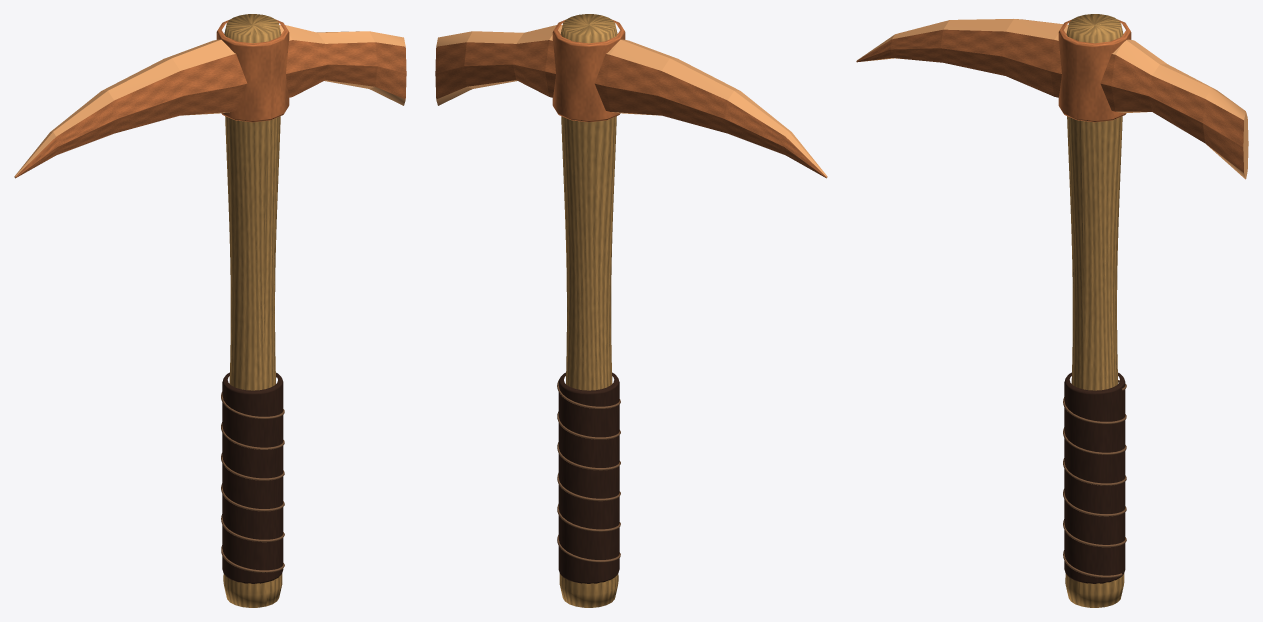
The model's file is grithe_pickaxe.glb.
The picture shows the model from 3 angles, left to right: view 1: azimuth 30°, elevation 25°; view 2: azimuth 150°, elevation 25°; view 3: azimuth 330°, elevation 25°; orthographic projection.
Parts seen in each view (by area): view 1: longitudinal-haft-grain, grithe_pickaxe-head-material, creased-leather-wrap, honed-head-bevels, socket-and-ferrule-metal, leather-overlap-edges; view 2: longitudinal-haft-grain, grithe_pickaxe-head-material, creased-leather-wrap, honed-head-bevels, socket-and-ferrule-metal, leather-overlap-edges; view 3: longitudinal-haft-grain, grithe_pickaxe-head-material, creased-leather-wrap, honed-head-bevels, socket-and-ferrule-metal, leather-overlap-edges.
Part boxes in pixels (x1,y1,x2,y2): longitudinal-haft-grain: [223, 14, 282, 607]; grithe_pickaxe-head-material: [15, 40, 406, 177]; creased-leather-wrap: [222, 372, 283, 583]; honed-head-bevels: [14, 25, 405, 178]; socket-and-ferrule-metal: [216, 19, 289, 122]; leather-overlap-edges: [221, 376, 284, 572]; longitudinal-haft-grain: [559, 14, 618, 607]; grithe_pickaxe-head-material: [435, 40, 826, 177]; creased-leather-wrap: [558, 372, 619, 583]; honed-head-bevels: [436, 25, 827, 178]; socket-and-ferrule-metal: [552, 19, 625, 122]; leather-overlap-edges: [557, 379, 620, 562]; longitudinal-haft-grain: [1065, 14, 1124, 607]; grithe_pickaxe-head-material: [856, 29, 1243, 172]; creased-leather-wrap: [1064, 372, 1125, 583]; honed-head-bevels: [857, 19, 1248, 179]; socket-and-ferrule-metal: [1058, 19, 1131, 122]; leather-overlap-edges: [1063, 380, 1126, 577].
Bounding box in the file's own units: 0.605 × 0.85 × 0.098.
Materials: 6 (4 with a texture image).
